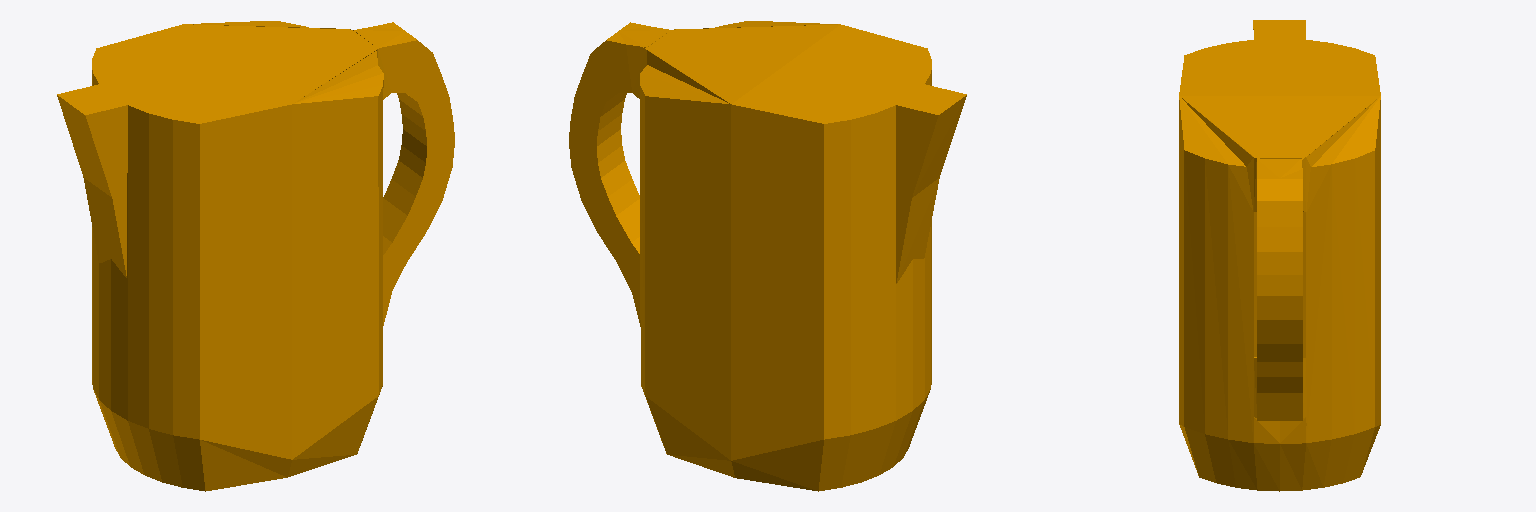
robot.urdf — brita.off:
<?xml version="1.0"?>
<robot name="brita.off">
	<link name="brita.off">
		<inertial>
			<!--origin xyz="0 0 0" rpy="0 0 0" /-->
			<mass value="0.5" />
			<!--inertia ixx="0.000360" ixy="0" ixz="0" iyy="0.0000615" iyz="0" izz="0.00036" /-->
		</inertial>
    		<visual>
	      		<!--origin rpy="0 0 0" xyz="0 0 0"/-->
      			<geometry>
        			<mesh filename="brita.off.obj"/>
      			</geometry>
         	</visual>
    		<collision>
      			<!--origin rpy="0 0 0" xyz="0 0 0"/-->
      			<geometry>
        			<mesh filename="brita.off.obj"/>
      			</geometry>
    		</collision>
	</link>
</robot>

--- Facts derived from the render (not from the file) ---
3 views of the same robot in one strip: view 1: azimuth 30°, elevation 25°; view 2: azimuth 150°, elevation 25°; view 3: azimuth 270°, elevation 25° (orthographic).
Model brita.off with 1 links and 0 joints (none), rooted at brita.off, posed every joint at zero.
Visible links, largest first — view 1: brita.off; view 2: brita.off; view 3: brita.off.
Boxes of the visible links, left/top/right/bottom form: brita.off: left=57, top=21, right=454, bottom=491; brita.off: left=569, top=21, right=966, bottom=491; brita.off: left=1179, top=20, right=1380, bottom=491.
Bounding box of the posed robot: 26.34 × 13.41 × 25.48 m (x, y, z).
1 mesh visuals loaded from 1 distinct referenced files (1 OBJ).
